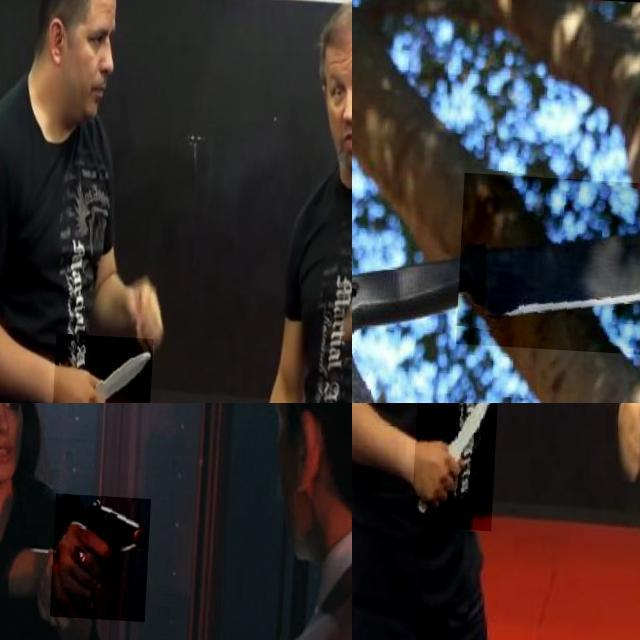-: (460, 170, 640, 358), (416, 403, 502, 528), (56, 332, 157, 403)
gun-knife-thesis - v11 Yolov5 augmented: (54, 491, 154, 618)
